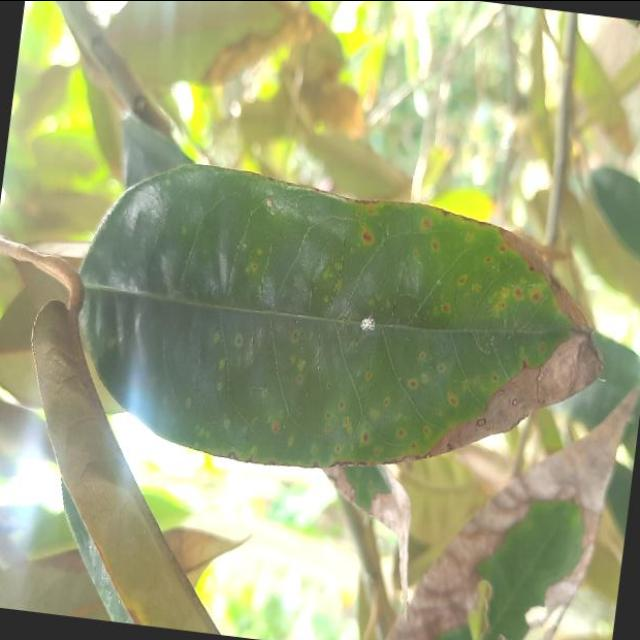Leaf Spot: (45, 142, 636, 512)
